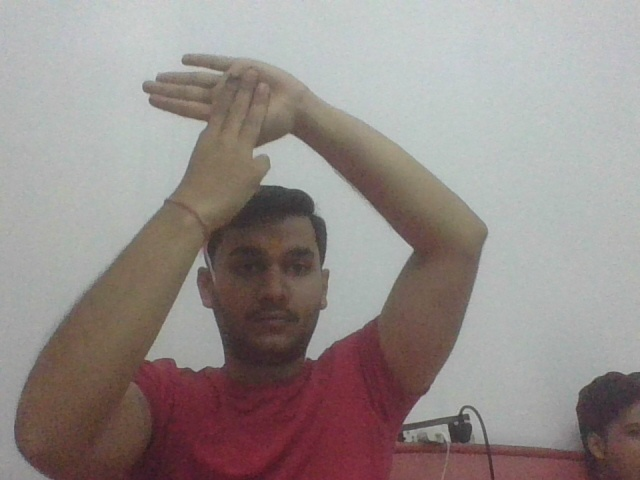M: (135, 48, 296, 183)
